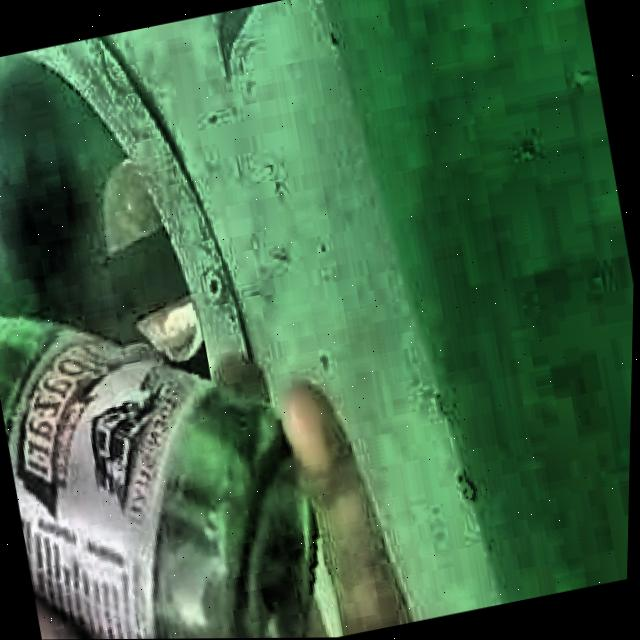glass: (0, 314, 319, 639)
